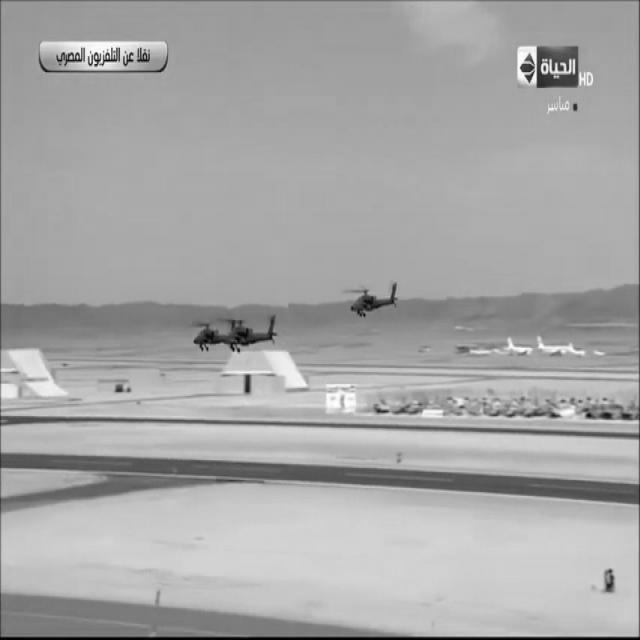helikopter: (192, 294, 287, 369), (339, 266, 408, 336)
